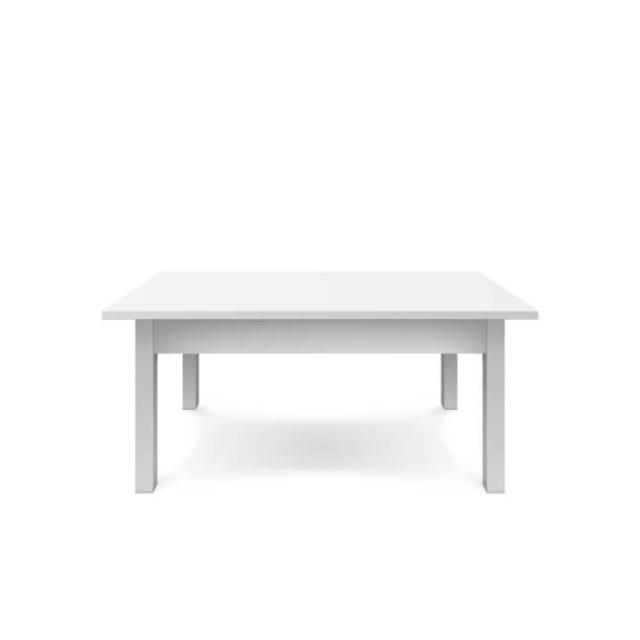table: (100, 268, 538, 494)
